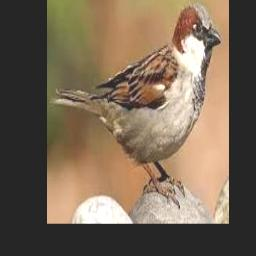Sparrow: (50, 3, 221, 207)
